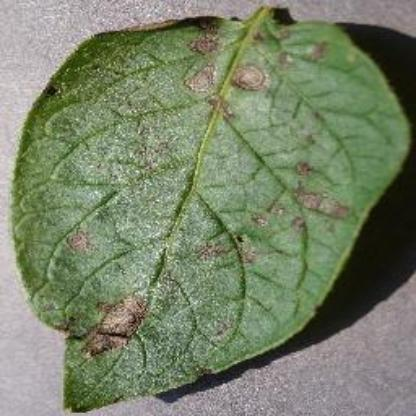Early-Blight: (11, 7, 410, 409)
